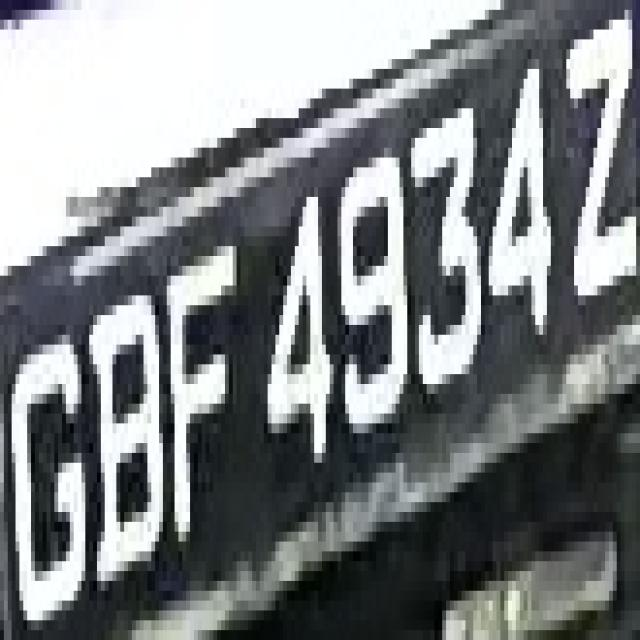3: (407, 118, 493, 492)
4: (248, 197, 334, 482), (485, 69, 558, 354)
9: (333, 108, 419, 473)
B: (85, 266, 167, 571)
F: (159, 207, 241, 561)
G: (12, 315, 85, 640)
Z: (562, 20, 640, 315)
